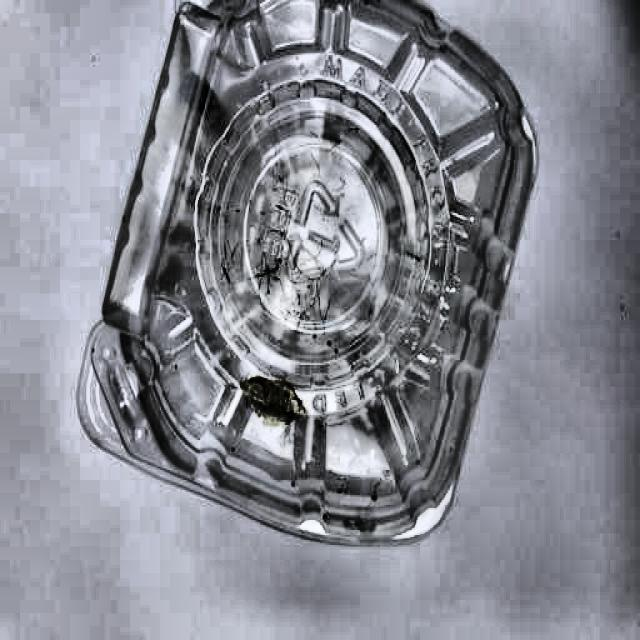plastic: (85, 3, 528, 535)
